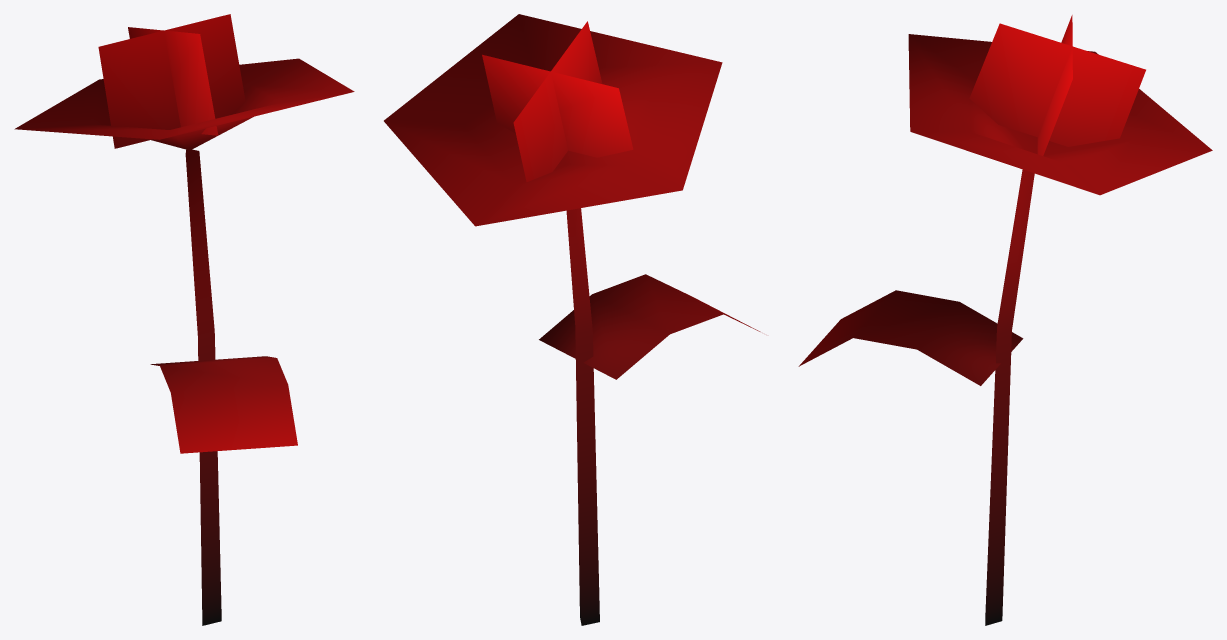
Rendered from SM_Flower4.fbx.
3 renders of one model, left to right at view 1: azimuth 30°, elevation 25°; view 2: azimuth 150°, elevation 25°; view 3: azimuth 270°, elevation 25°, orthographic. The views are drawn at different scales.
Parts seen in each view (by area): view 1: Flower4; view 2: Flower4; view 3: Flower4.
Boxes of the visible parts, x1,y1,x2,y2 form: Flower4: (14, 14, 354, 625); Flower4: (384, 14, 760, 625); Flower4: (798, 15, 1212, 625).
Bounding box in the file's own units: 0.1479 × 0.2881 × 0.1819.
